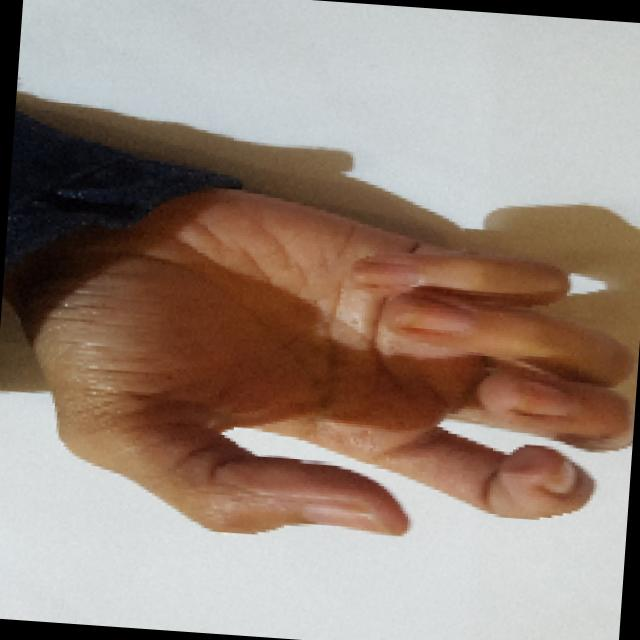Nail: (303, 503, 388, 532), (403, 296, 472, 331), (512, 379, 569, 416), (351, 257, 417, 285), (543, 458, 575, 491)
